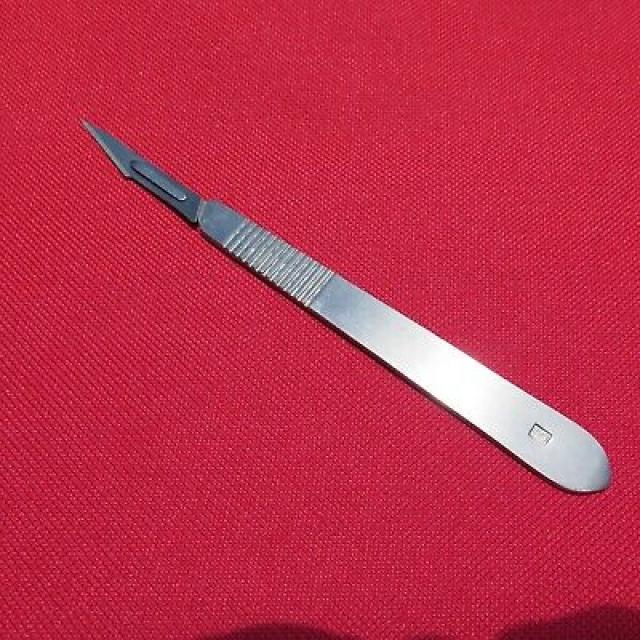Knife handle: (133, 158, 612, 504)
Surgical blade: (68, 97, 222, 250)
